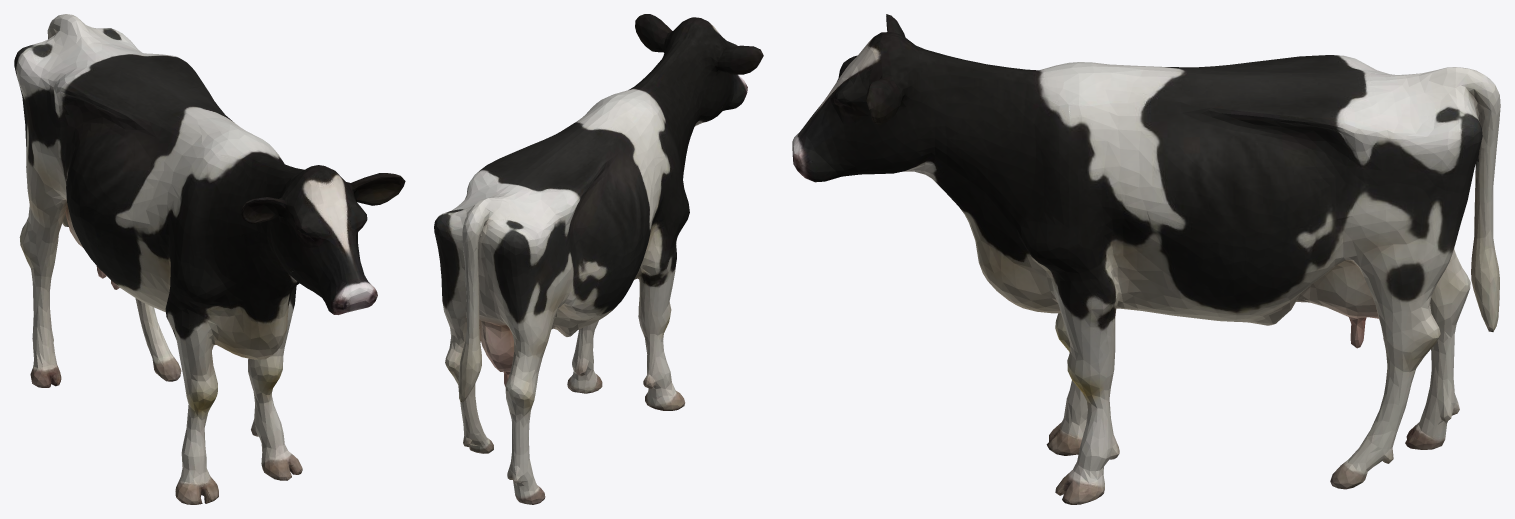
File: cow.glb
3 renders of one model, left to right at view 1: azimuth 30°, elevation 25°; view 2: azimuth 150°, elevation 25°; view 3: azimuth 270°, elevation 25°, orthographic. The views are drawn at different scales.
Visible parts, largest first — view 1: geometry_0; view 2: geometry_0; view 3: geometry_0.
Part boxes in pixels (x1,y1,x2,y2): geometry_0: [14, 14, 405, 504]; geometry_0: [434, 14, 763, 504]; geometry_0: [792, 14, 1500, 504].
Size of the model in its own units: 0.3139 by 0.6785 by 0.9986.
1 material, 1 textured.
